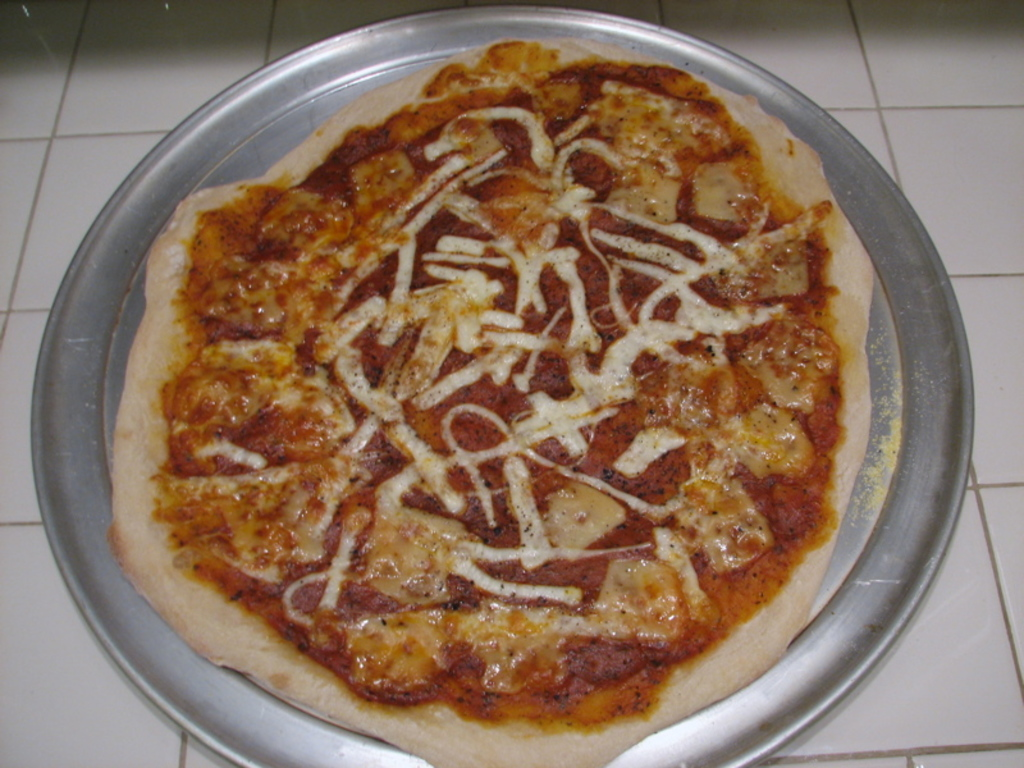Pizza: (111, 20, 892, 729)
